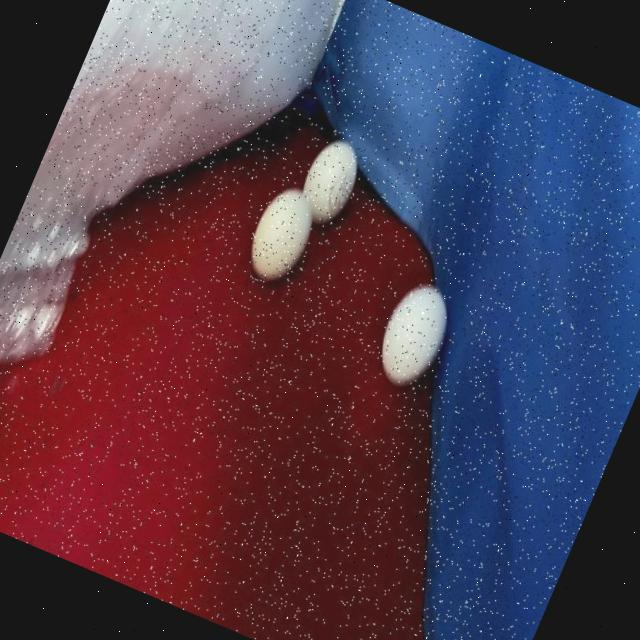ping-pong-ball: (363, 270, 464, 400), (234, 180, 324, 292), (288, 130, 371, 232)
